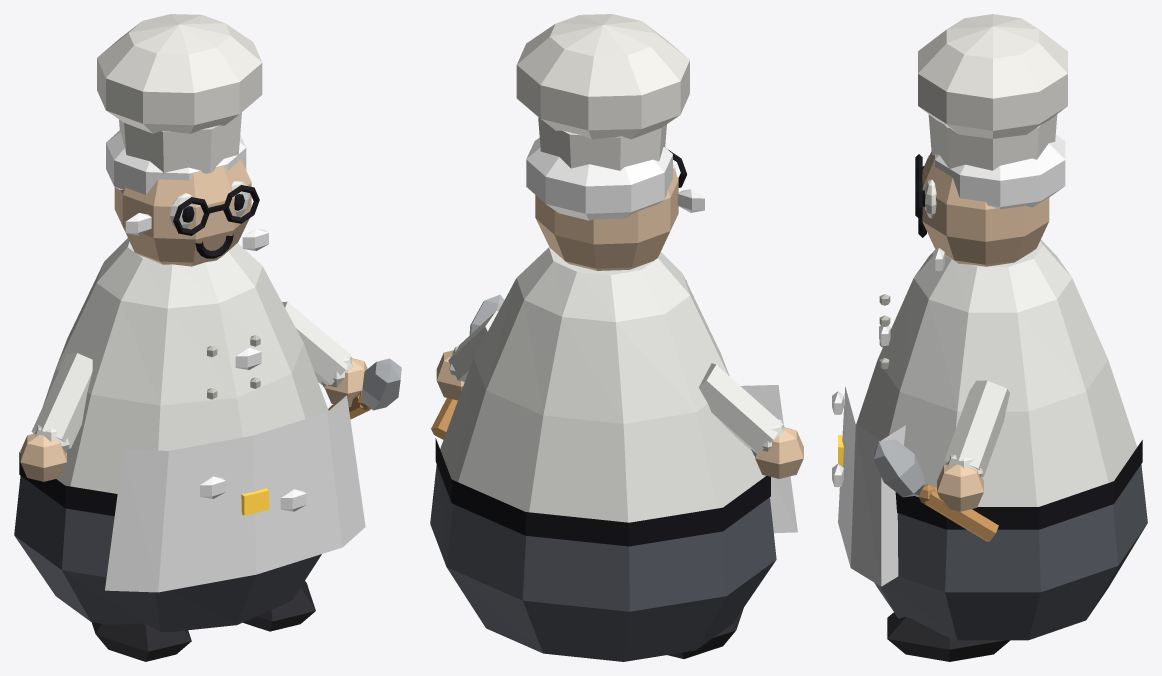
The model's file is npc_pastelero.glb.
3 views of the same model, side by side, from view 1: azimuth 30°, elevation 25°; view 2: azimuth 150°, elevation 25°; view 3: azimuth 270°, elevation 25° (orthographic). The views are drawn at different scales.
Visible parts, largest first — view 1: body_chef_jacket, apron_apron, cap_white, body_chef_pants, head_skin_crema, arms_chef_jacket, legs_cook_shoes, arms_skin_crema, hair_hair, body_black, whisk_whisk_wire, glasses_black (+3 smaller); view 2: body_chef_jacket, body_chef_pants, cap_white, body_black, hair_hair, head_skin_crema, arms_chef_jacket, arms_skin_crema, apron_apron, legs_cook_shoes, whisk_whisk_handle, whisk_whisk_wire; view 3: body_chef_jacket, body_chef_pants, cap_white, apron_apron, head_skin_crema, hair_hair, body_black, arms_chef_jacket, legs_cook_shoes, whisk_whisk_wire, arms_skin_crema, whisk_whisk_handle (+1 smaller).
Boxes of the visible parts, box(x1,y1,x2,y2) form: body_chef_jacket: box(43, 238, 328, 493); apron_apron: box(105, 395, 365, 592); cap_white: box(97, 14, 262, 174); body_chef_pants: box(14, 476, 321, 632); head_skin_crema: box(114, 159, 251, 266); arms_chef_jacket: box(31, 301, 352, 453); legs_cook_shoes: box(91, 581, 315, 661); arms_skin_crema: box(20, 358, 367, 481); hair_hair: box(106, 131, 246, 194); body_black: box(19, 452, 117, 516); whisk_whisk_wire: box(361, 358, 401, 410); glasses_black: box(173, 185, 259, 235); body_chef_jacket: box(440, 247, 764, 522); body_chef_pants: box(430, 464, 776, 661); cap_white: box(516, 14, 689, 170); body_black: box(435, 438, 770, 546); hair_hair: box(526, 138, 672, 220); head_skin_crema: box(535, 168, 678, 270); arms_chef_jacket: box(448, 311, 784, 455); arms_skin_crema: box(436, 350, 803, 478); apron_apron: box(740, 385, 797, 533); legs_cook_shoes: box(667, 608, 743, 658); whisk_whisk_handle: box(431, 398, 457, 439); whisk_whisk_wire: box(469, 294, 504, 334); body_chef_jacket: box(856, 239, 1136, 506); body_chef_pants: box(874, 464, 1147, 640); cap_white: box(918, 14, 1067, 170); apron_apron: box(838, 386, 905, 586); head_skin_crema: box(922, 151, 1049, 266); hair_hair: box(935, 134, 1065, 209); body_black: box(895, 440, 1142, 529); arms_chef_jacket: box(944, 380, 1009, 477); legs_cook_shoes: box(887, 612, 1009, 661); whisk_whisk_wire: box(874, 439, 924, 497); arms_skin_crema: box(937, 464, 983, 511); whisk_whisk_handle: box(918, 484, 998, 541).
Size of the model in its own units: 1.13 by 1.83 by 0.8765.
